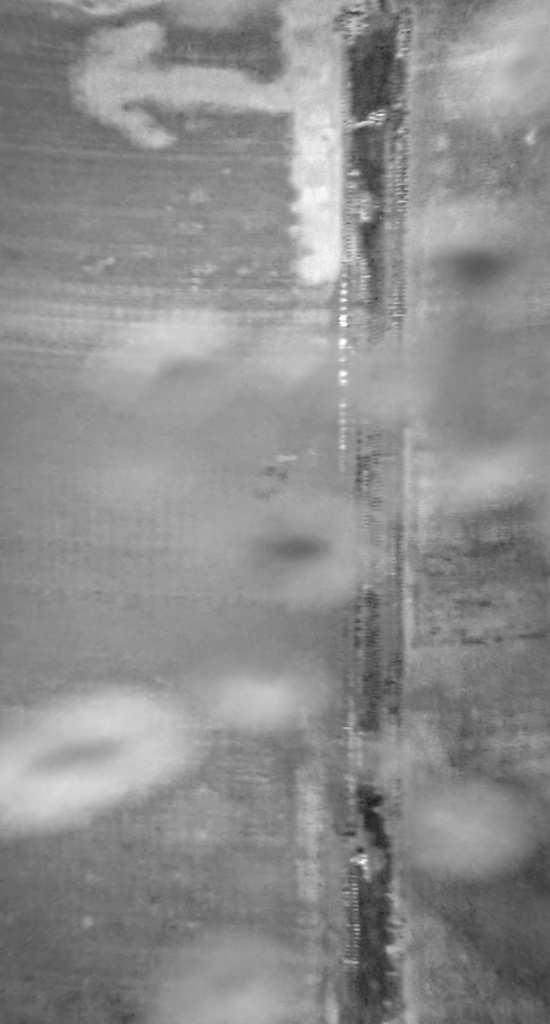splice: (325, 1, 422, 1024)
